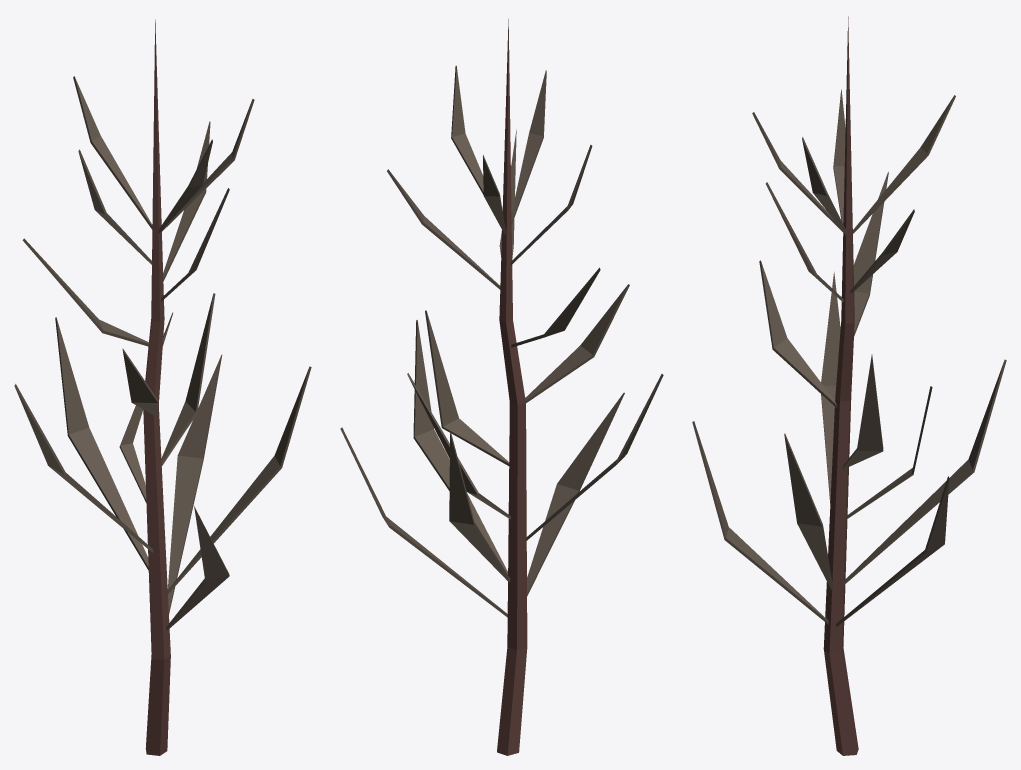
File: Plant_2.gltf
3 views of the same model, side by side, from view 1: azimuth 30°, elevation 25°; view 2: azimuth 150°, elevation 25°; view 3: azimuth 270°, elevation 25° (orthographic).
Parts seen in each view (by area): view 1: Plant_2; view 2: Plant_2; view 3: Plant_2.
Part boxes in pixels (x1,y1,x2,y2): Plant_2: [14, 19, 311, 755]; Plant_2: [340, 19, 663, 755]; Plant_2: [692, 16, 1006, 755].
Bounding box in the file's own units: 0.6859 × 1.77 × 0.6859.
